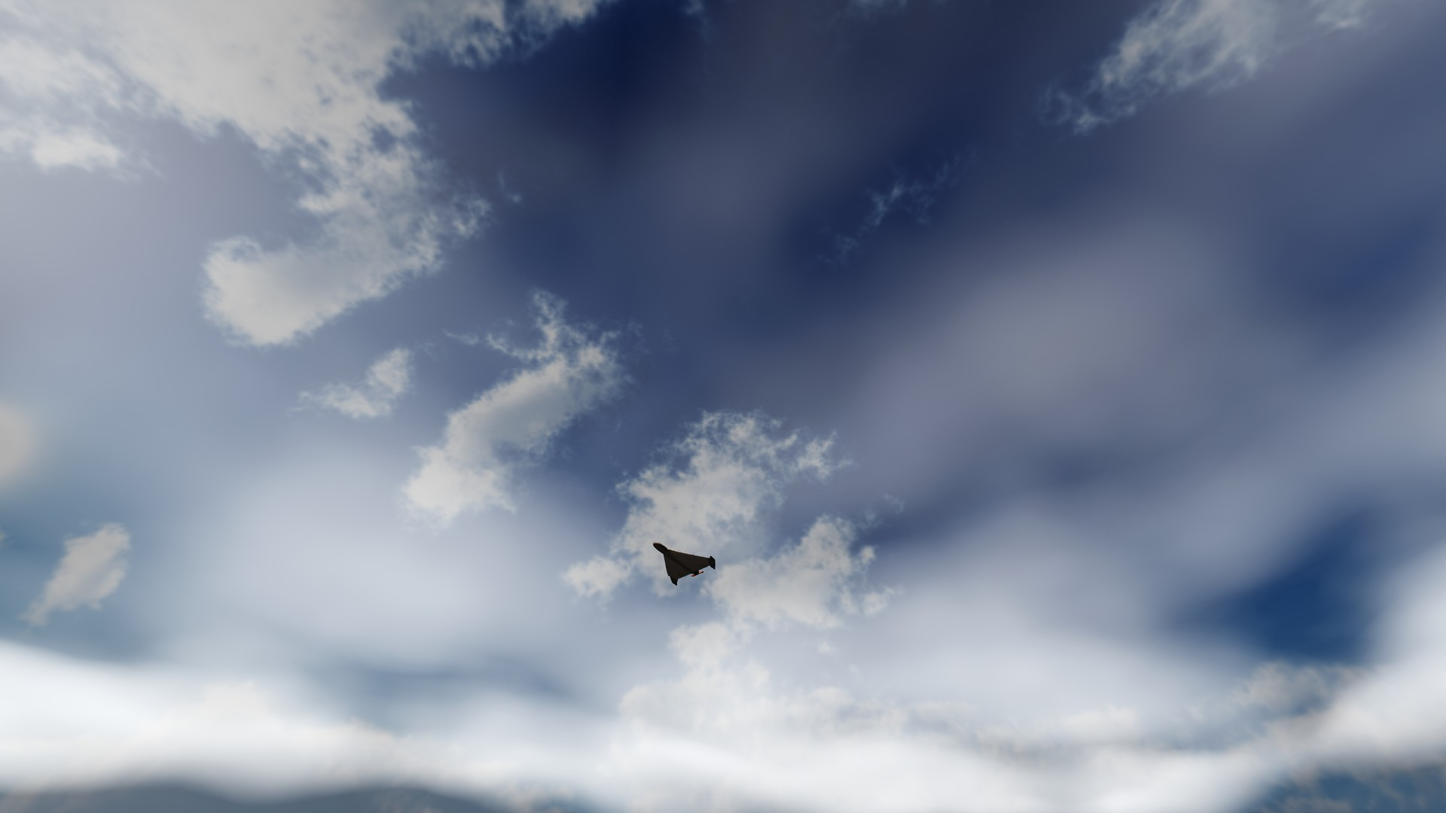shahed: (653, 542, 715, 586)
